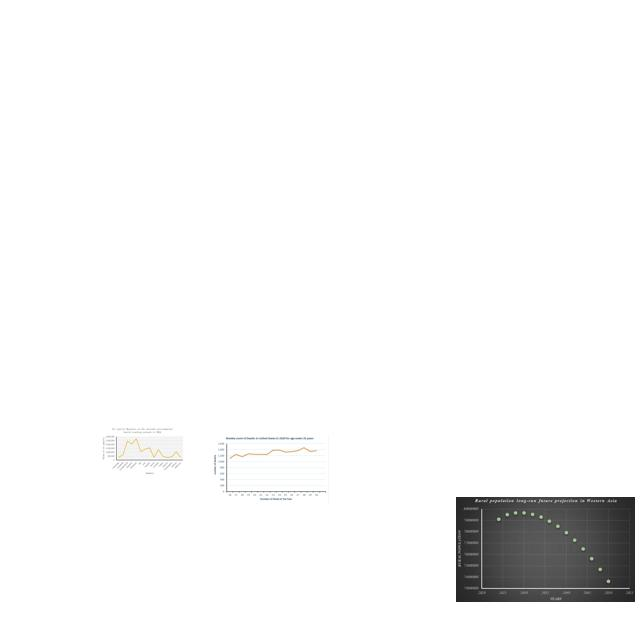Graph: (456, 497, 635, 602), (211, 435, 329, 504), (100, 426, 185, 475)
